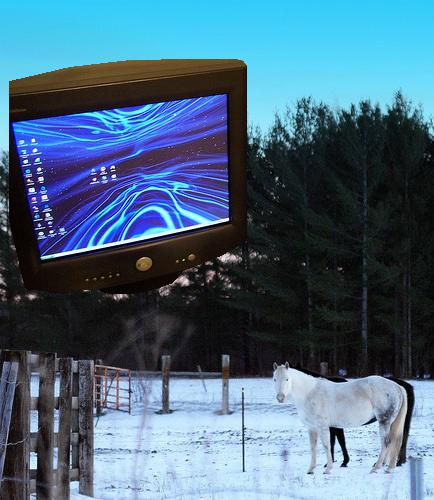tampered: (10, 60, 247, 294)
